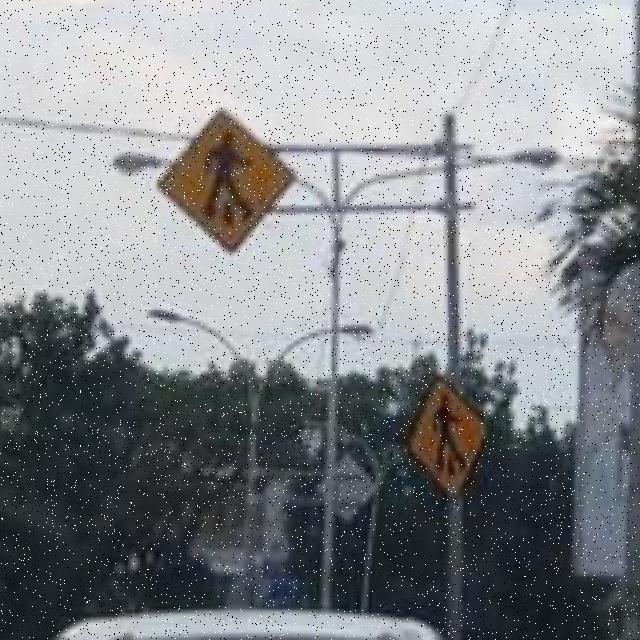Przejscie dla pieszych: (163, 108, 297, 250), (407, 383, 485, 493)
